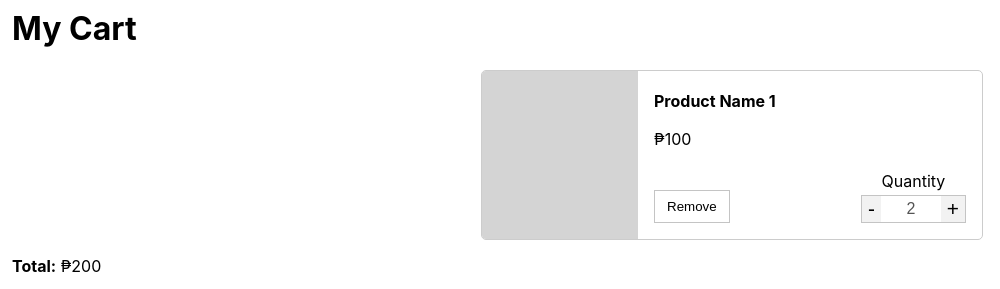
Test: <CartProductList /> › should decrease cart item quantity
The width and height of the screenshot is (1000, 289).
Expected: the field labelled "Quantity" holds "2", x1=889 y1=196 x2=933 y2=222
What coordinates should you click on to do the following:
click the button "-"
I would click on:
 (871, 209)
Its box is x1=862 y1=196 x2=881 y2=222.
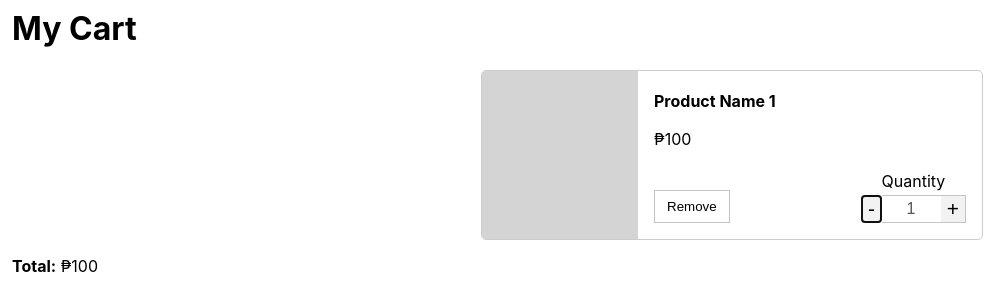
Result: the field labelled "Quantity" holds "1" at x1=889 y1=196 x2=933 y2=222
